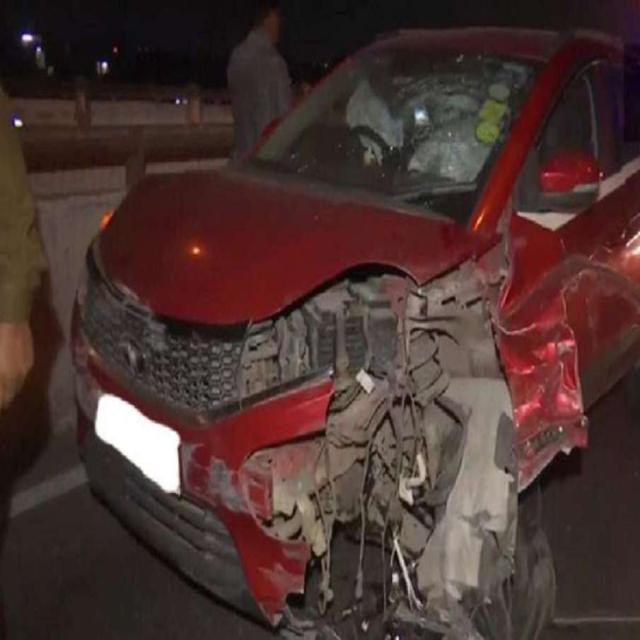accident: (71, 29, 640, 638), (621, 614, 632, 640)
